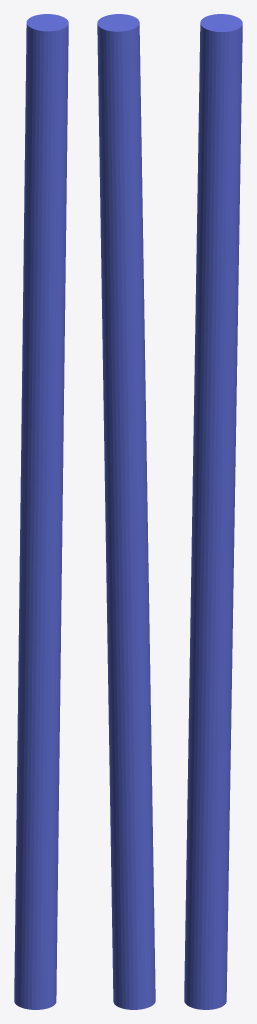
3 views of the same model, side by side, from view 1: azimuth 30°, elevation 25°; view 2: azimuth 150°, elevation 25°; view 3: azimuth 330°, elevation 25° (orthographic).
Visible parts, largest first — view 1: Circle; view 2: Circle; view 3: Circle.
Part boxes in pixels (box(x1,y1,x2,y2)): Circle: box(14, 14, 68, 1009); Circle: box(97, 14, 155, 1009); Circle: box(184, 14, 242, 1009).
Bounding box in the file's own units: 0.687 × 12.64 × 0.5374.
